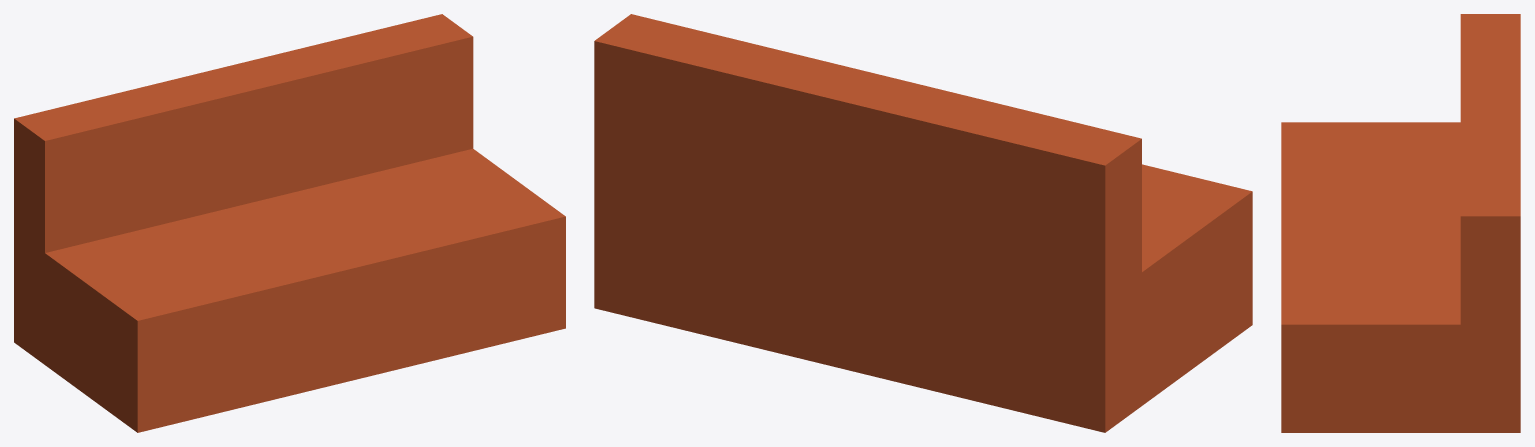
3 renders of one model, left to right at view 1: azimuth 30°, elevation 25°; view 2: azimuth 150°, elevation 25°; view 3: azimuth 270°, elevation 25°, orthographic. The views are drawn at different scales.
Parts seen in each view (by area): view 1: Seat, Back (+Z is front); view 2: Seat, Back (+Z is front); view 3: Seat, Back (+Z is front).
Boxes of the visible parts, left/top/right/bottom form: Seat: left=14, top=148, right=565, bottom=432; Back (+Z is front): left=14, top=14, right=473, bottom=252; Seat: left=594, top=164, right=1252, bottom=432; Back (+Z is front): left=594, top=14, right=1141, bottom=298; Seat: left=1281, top=122, right=1520, bottom=432; Back (+Z is front): left=1460, top=14, right=1520, bottom=324.
Bounding box in the file's own units: 2 × 1 × 1.
